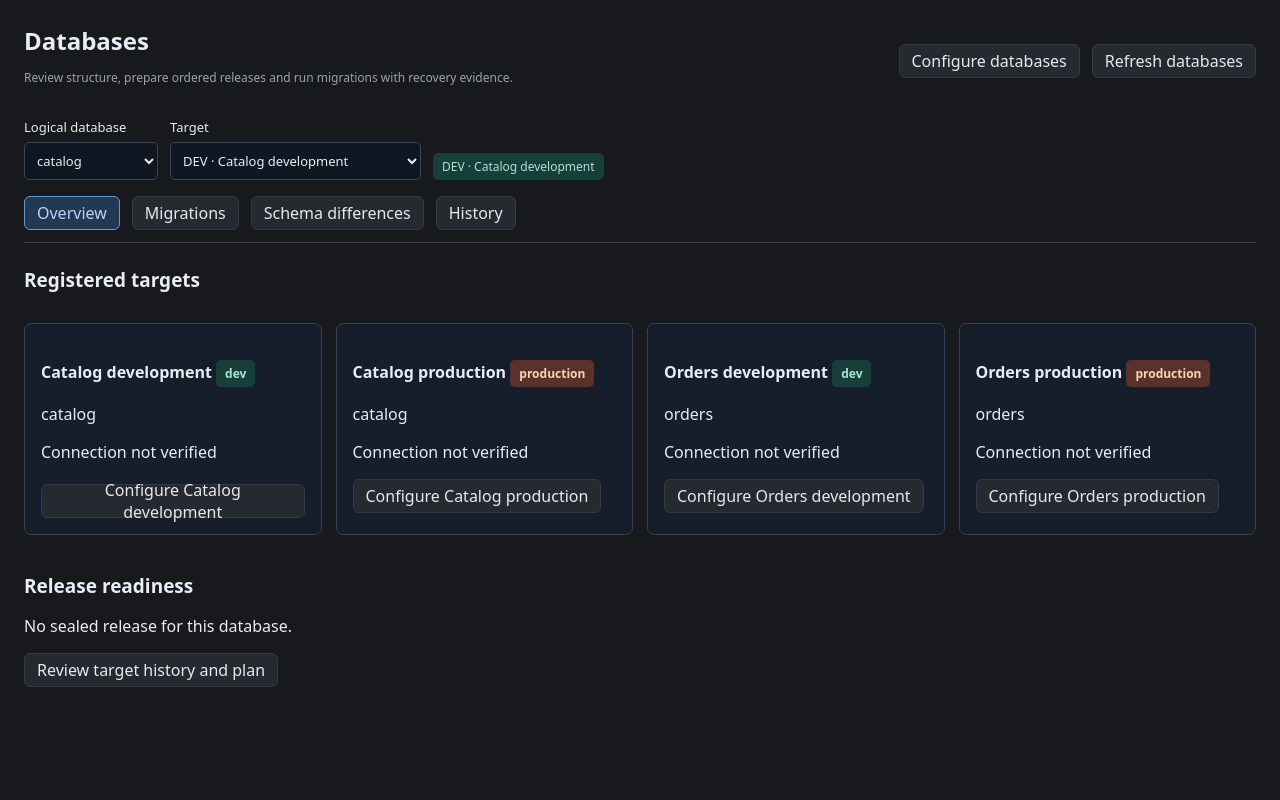
Test case: Database view › continues comparing other databases after a failure and retries only the selected group
The image size is (1280, 800).
Expected: the heading "Catalog development dev" is shown, [41,360,255,387]
Step 1. Click the button "Schema differences" → click(337, 213), box [251,196,424,230]
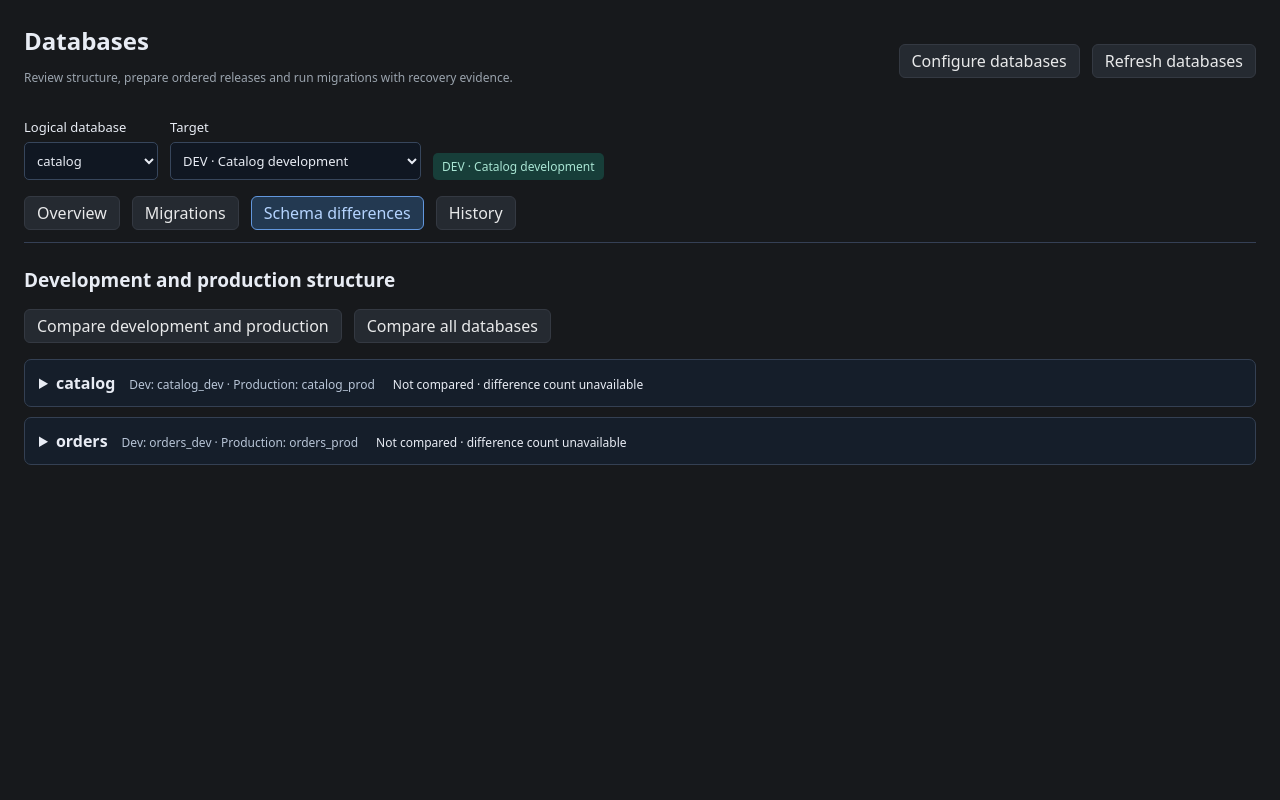
Step 2. Click the button "Compare all databases" → click(452, 326), box [354,309,551,343]
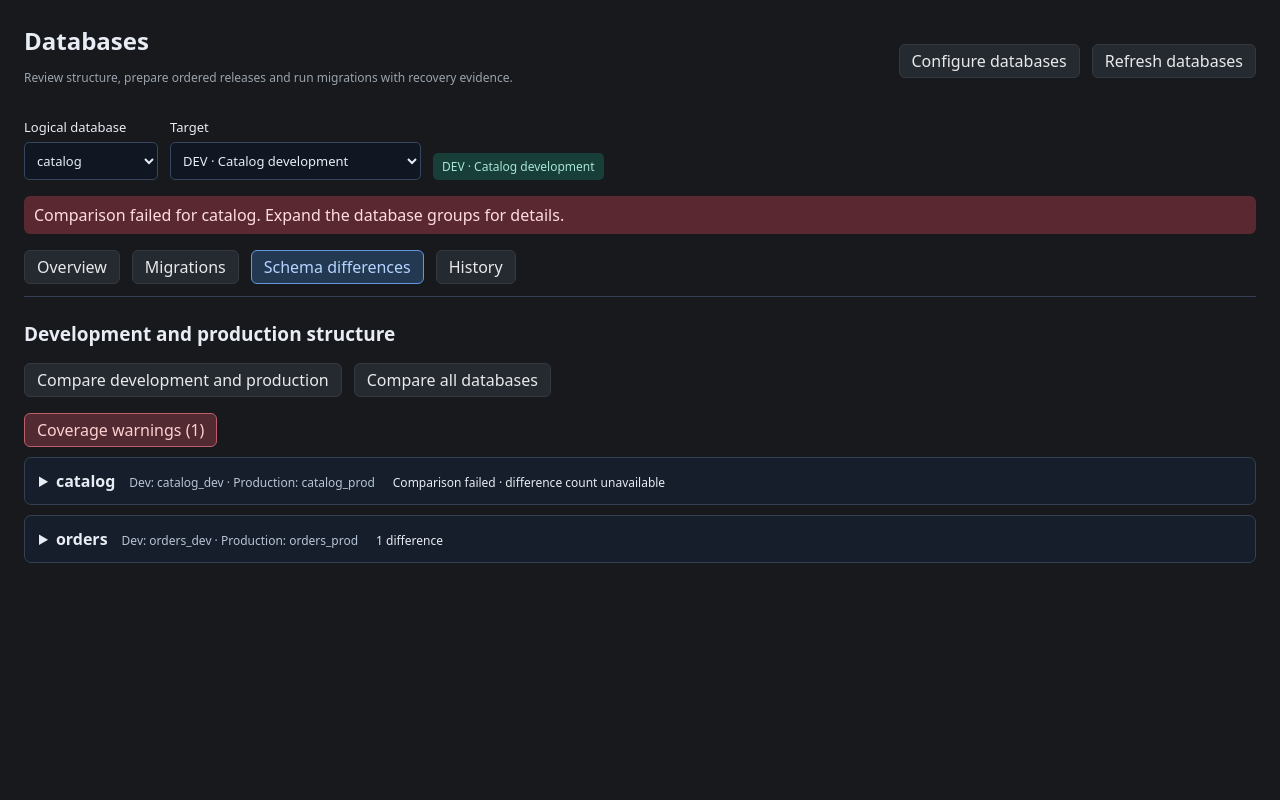
Expected: the message shows "Comparison failed for catalog", [34,204,564,226]
Step 3. Click the button "Compare development and production" → click(183, 380), box [24,363,342,397]
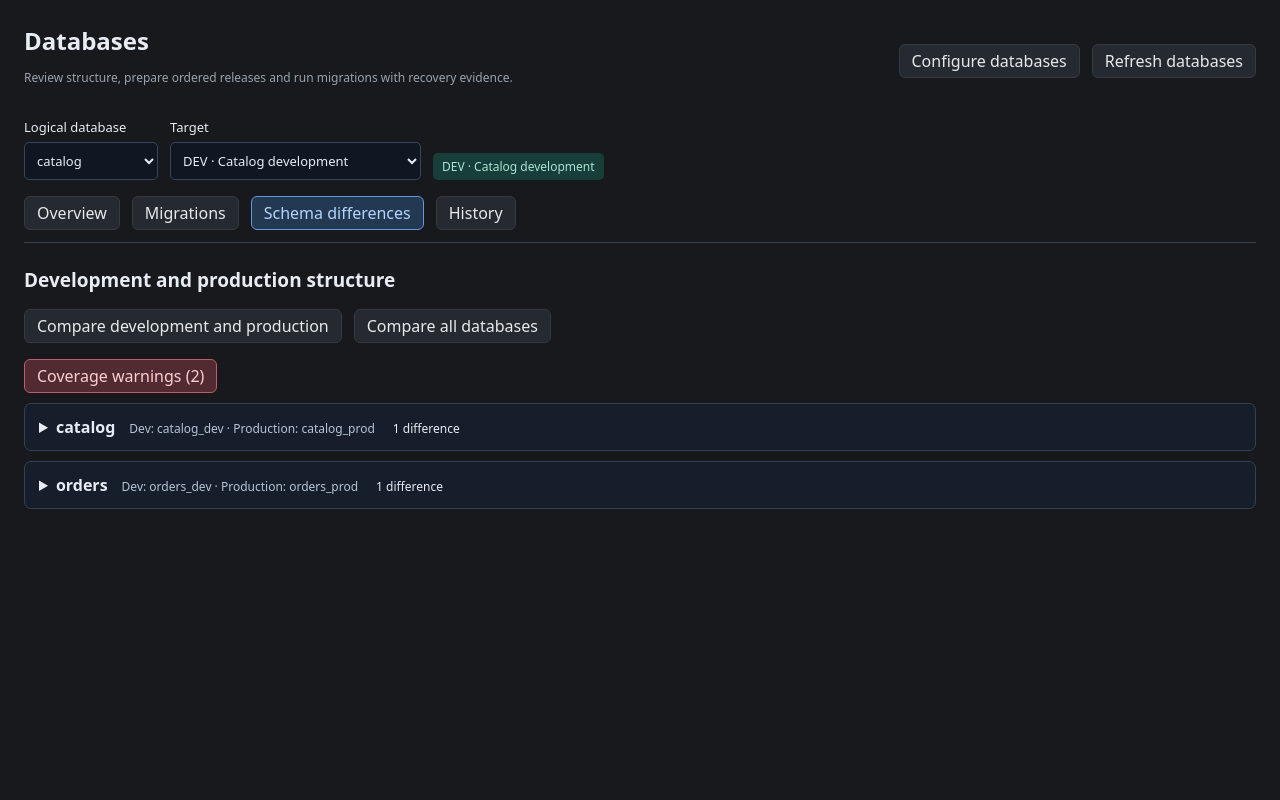
Expected: the button "Compare all databases" is enabled, [354,309,551,343]
Expected: the message "Comparison failed for catalog. Expand the database groups for details." is gone
